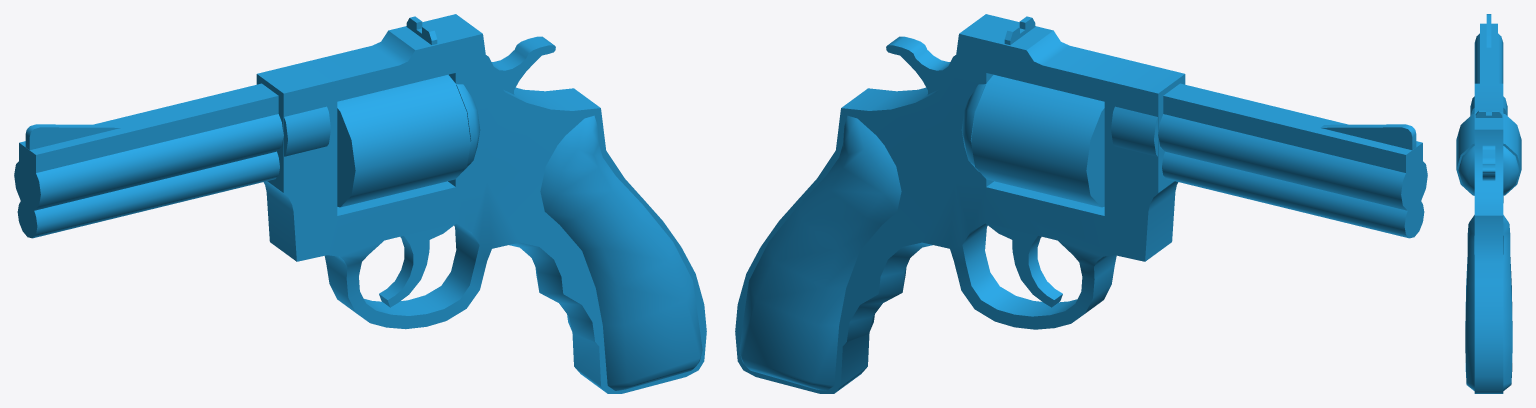
The model's file is Gun.fbx.
The picture shows the model from 3 angles, left to right: view 1: azimuth 30°, elevation 25°; view 2: azimuth 150°, elevation 25°; view 3: azimuth 270°, elevation 25°; orthographic projection. The views are drawn at different scales.
Parts seen in each view (by area): view 1: GunBase, GunCylinder, GunTrigger, GunHammer; view 2: GunBase, GunCylinder, GunTrigger, GunHammer; view 3: GunBase, GunCylinder, GunHammer.
Part boxes in pixels (x1,y1,x2,y2): GunBase: [14, 14, 706, 393]; GunCylinder: [337, 74, 470, 207]; GunTrigger: [379, 223, 455, 307]; GunHammer: [486, 36, 555, 94]; GunBase: [735, 14, 1427, 393]; GunCylinder: [971, 74, 1104, 207]; GunTrigger: [986, 223, 1062, 307]; GunHammer: [886, 36, 955, 94]; GunBase: [1458, 14, 1519, 393]; GunCylinder: [1456, 113, 1521, 195]; GunHammer: [1482, 145, 1495, 180].
Bounding box in the file's own units: 27.63 × 16.07 × 4.39.
